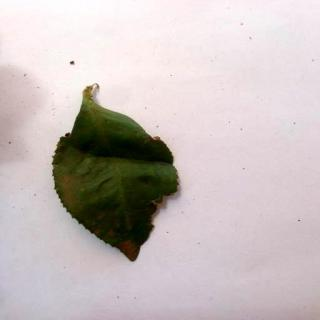Algal Leaf: (55, 81, 179, 267)
